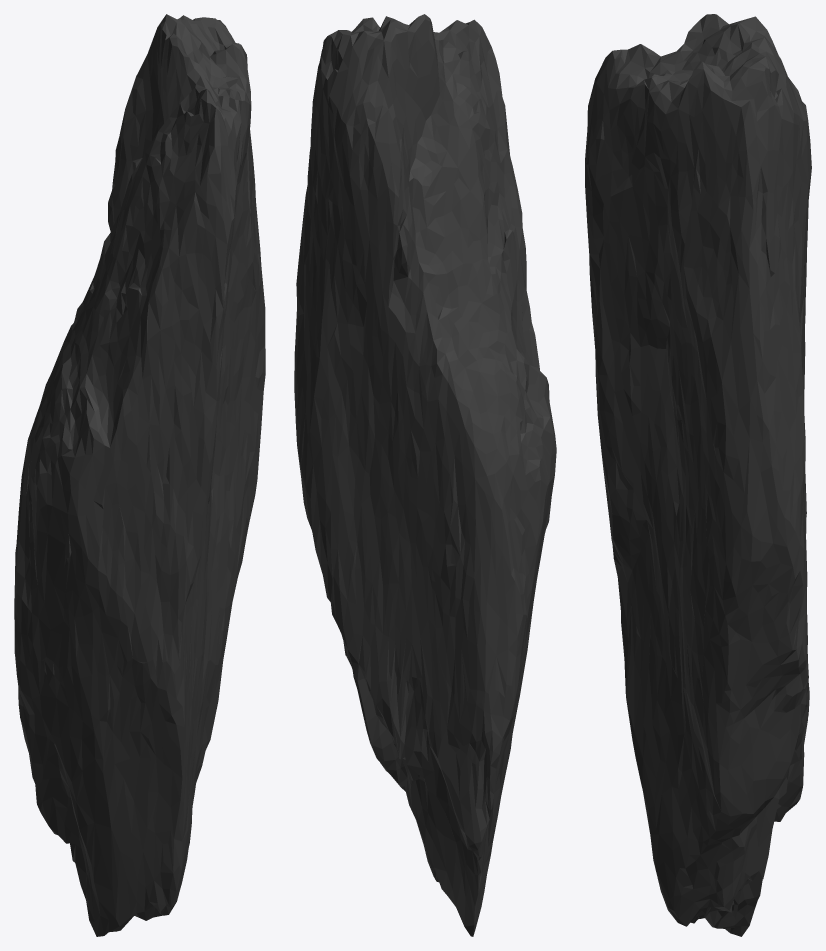
The model's file is truth.glb.
3 views of the same model, side by side, from view 1: azimuth 30°, elevation 25°; view 2: azimuth 150°, elevation 25°; view 3: azimuth 270°, elevation 25° (orthographic). The views are drawn at different scales.
Parts seen in each view (by area): view 1: geometry; view 2: geometry; view 3: geometry.
Boxes of the visible parts, <box> form: geometry: <box>14,14,265,936</box>; geometry: <box>294,14,556,936</box>; geometry: <box>585,14,811,936</box>.
Size of the model in its own units: 0.95 by 3.5 by 0.75.
1 material, 1 textured.
